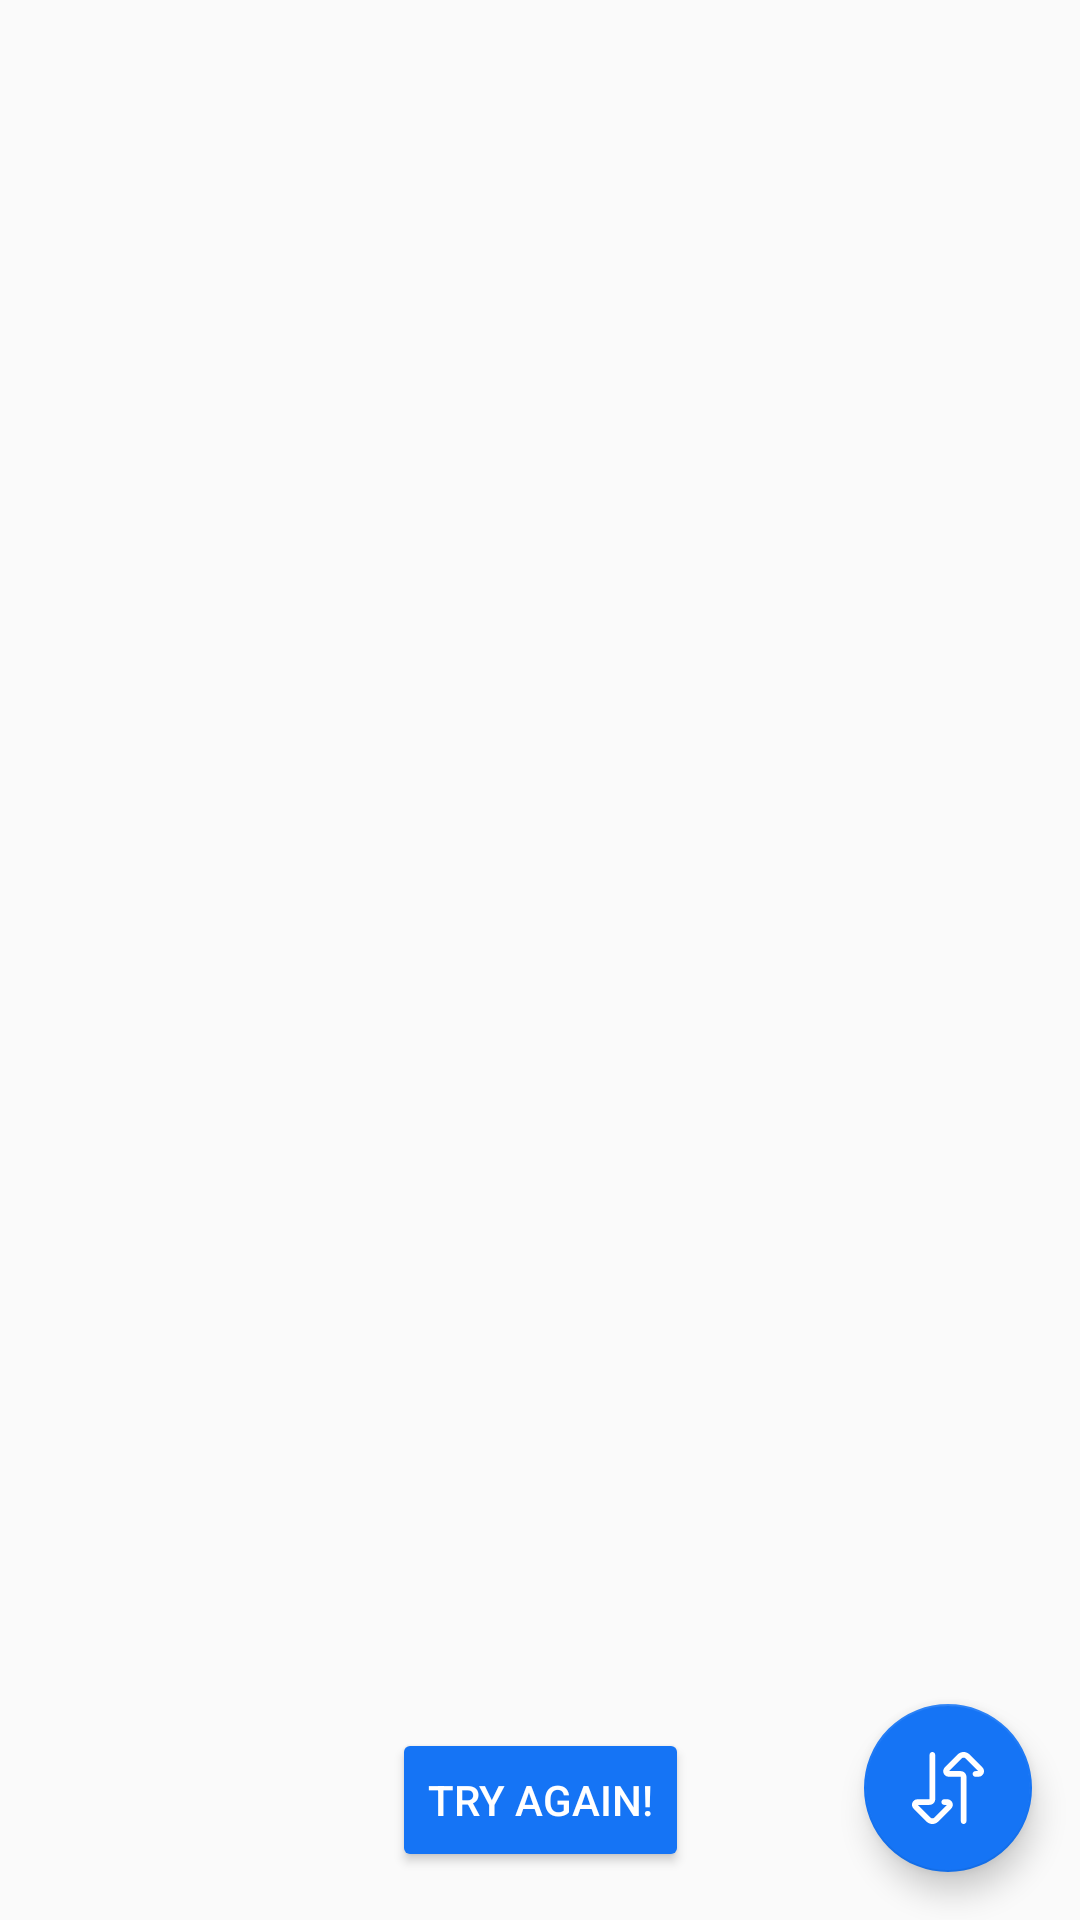

Point at icon controls on the screen. Image size 1080×1920, points as [x,y].
sort: [948,1788]
